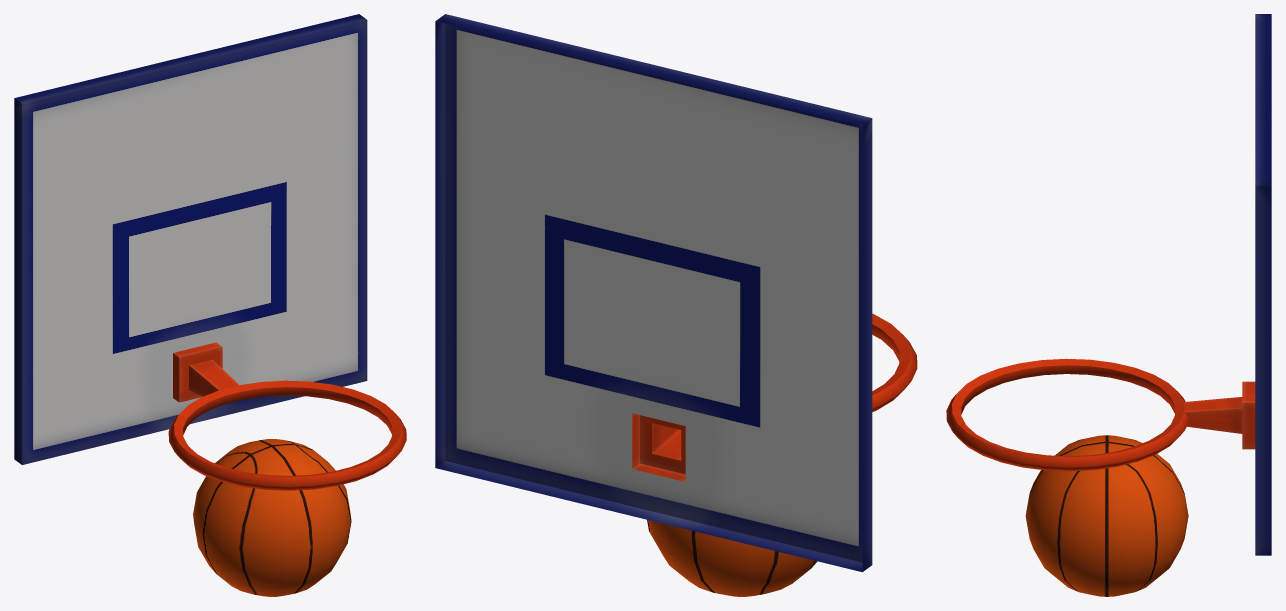
The model's file is BasketBall.fbx.
3 renders of one model, left to right at view 1: azimuth 30°, elevation 25°; view 2: azimuth 150°, elevation 25°; view 3: azimuth 270°, elevation 25°, orthographic. The views are drawn at different scales.
Parts seen in each view (by area): view 1: Basket, BasketBall; view 2: Basket, BasketBall; view 3: Basket, BasketBall.
Boxes of the visible parts, x1,y1,x2,y2 form: Basket: [14, 14, 406, 490]; BasketBall: [193, 439, 351, 596]; Basket: [435, 14, 917, 572]; BasketBall: [647, 520, 817, 596]; Basket: [946, 14, 1271, 555]; BasketBall: [1025, 435, 1188, 596].
Bounding box in the file's own units: 11.12 × 14.67 × 8.87.
1 material, 1 textured.
